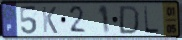1: (97, 4, 111, 36)
2: (68, 4, 87, 36)
5: (18, 4, 39, 36)
D: (117, 5, 140, 36)
K: (41, 5, 59, 35)
L: (143, 5, 161, 35)
